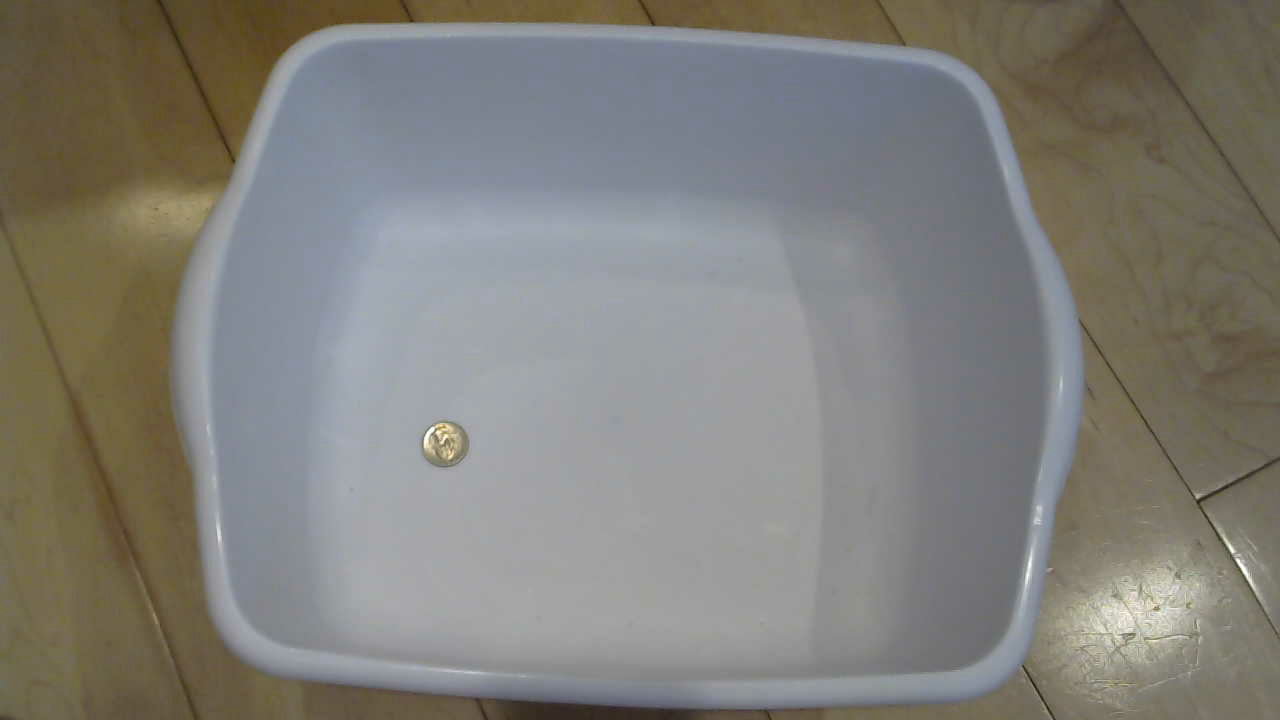coin: (415, 423, 479, 482)
